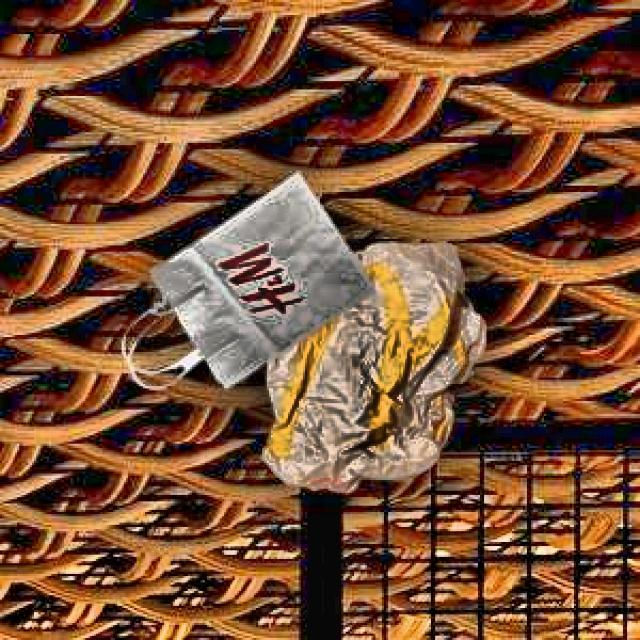Paper-bag: (244, 239, 502, 503), (110, 188, 400, 396)
